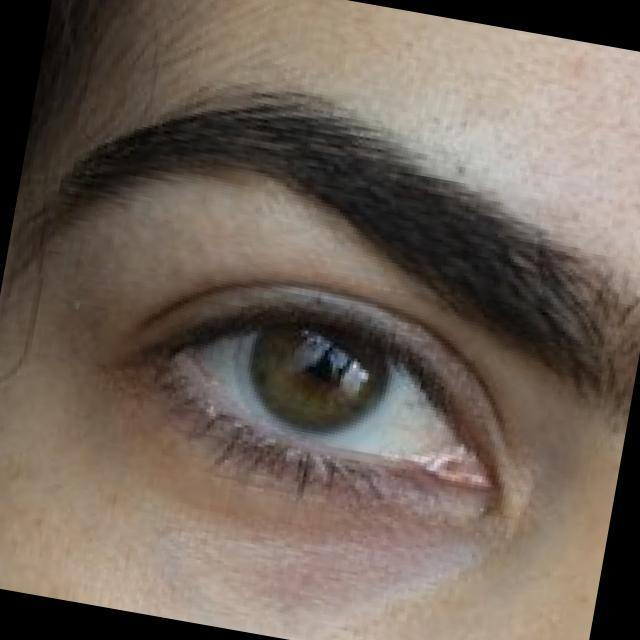Normal: (106, 250, 557, 544)
